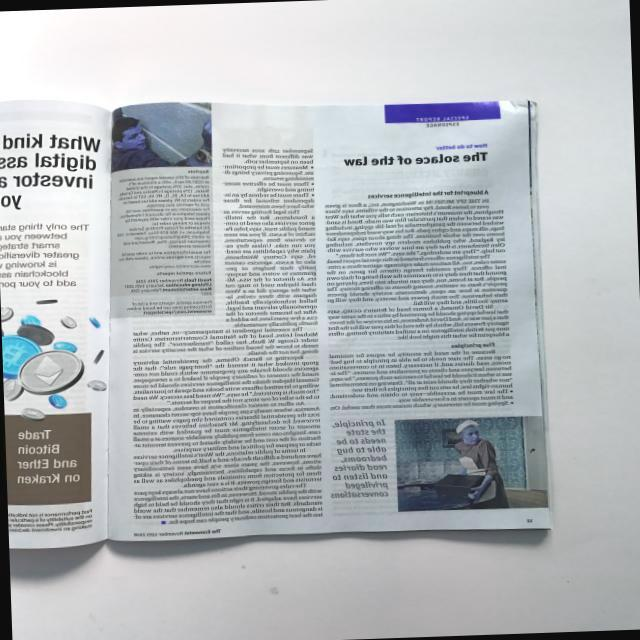paper: (0, 79, 553, 550)
